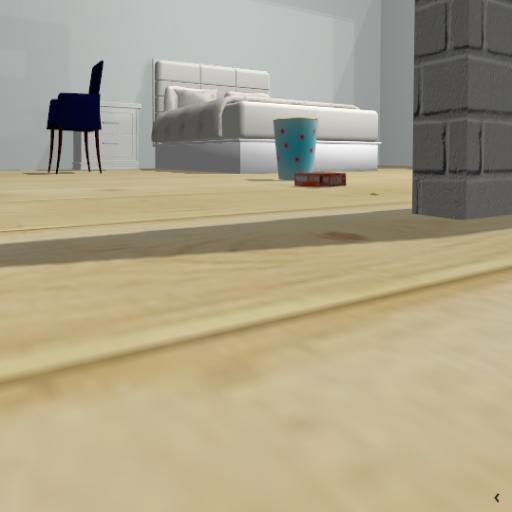BOX_R: (279, 170, 381, 194)
Trash: (269, 105, 329, 184)
